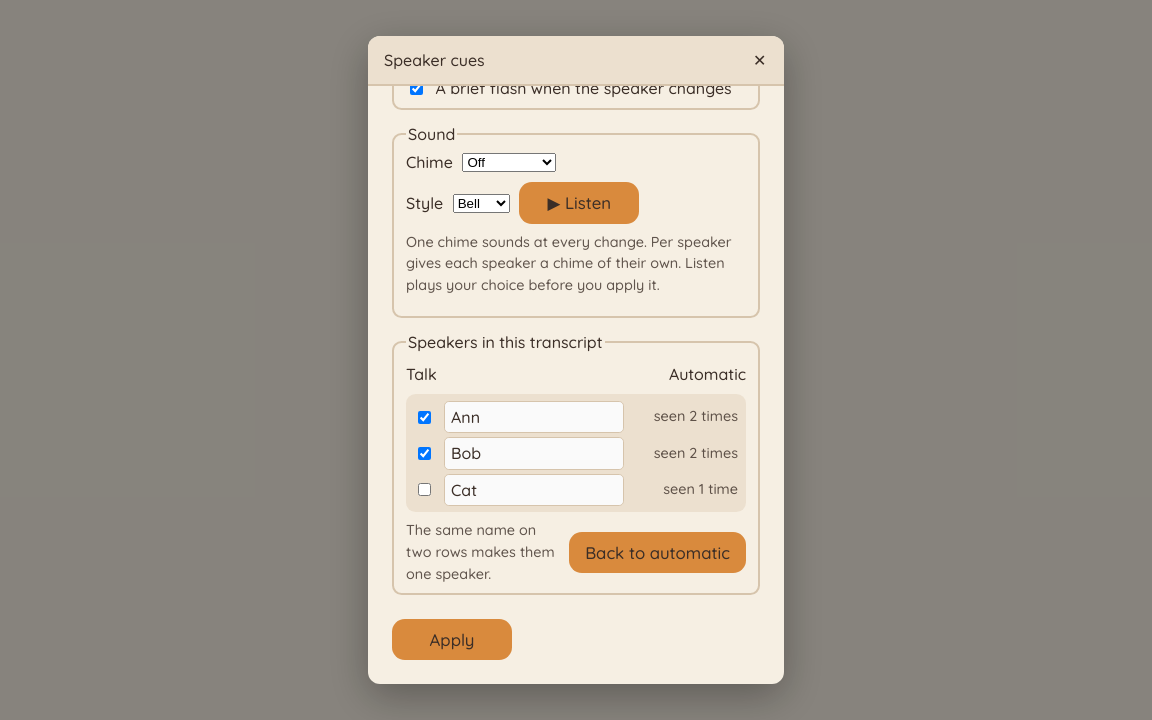
it: the speaker list › ticking_a_row_makes_the_list_custom_and_unticking_makes_it_automatic
(page scrolled)
What coordinates should you click on to do the following:
click the checkbox named "Show Cat as a speaker"
I would click on:
 (424, 490)
Its box is x1=418 y1=483 x2=431 y2=496.
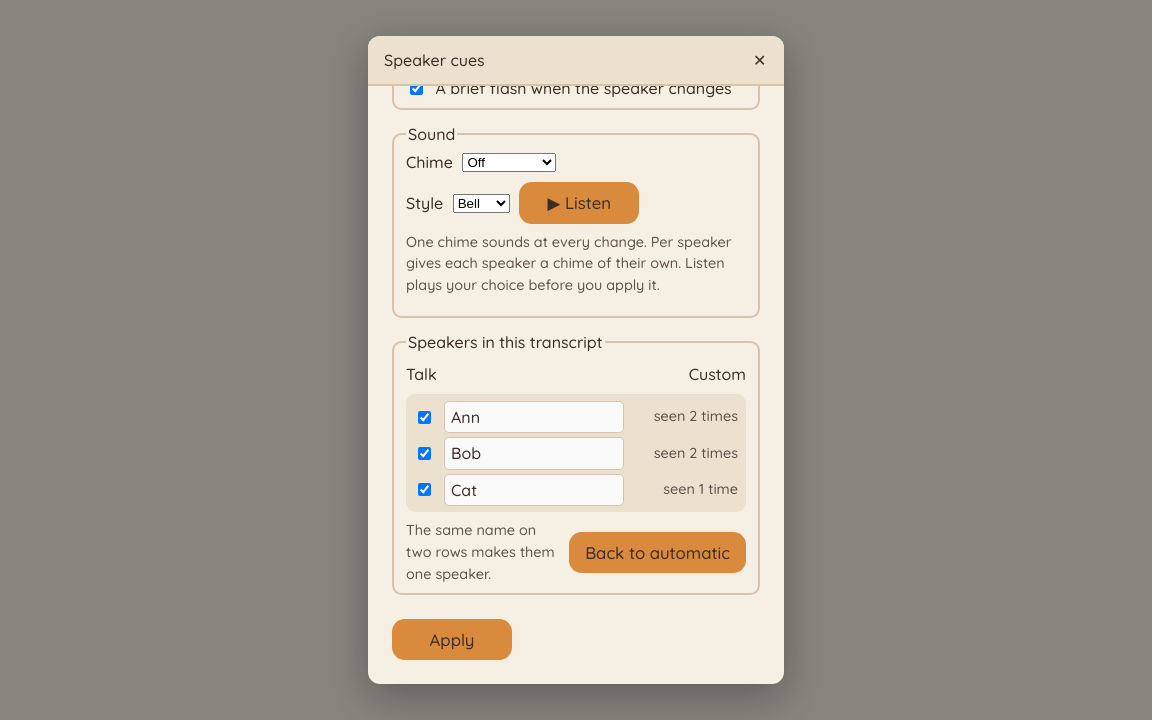
Now the text with test id "list-mode" reads "Custom", box x1=689 y1=364 x2=746 y2=384
What coordinates should you click on to do the following:
click the checkbox named "Show Cat as a speaker"
I would click on:
 (424, 490)
Its box is x1=418 y1=483 x2=431 y2=496.
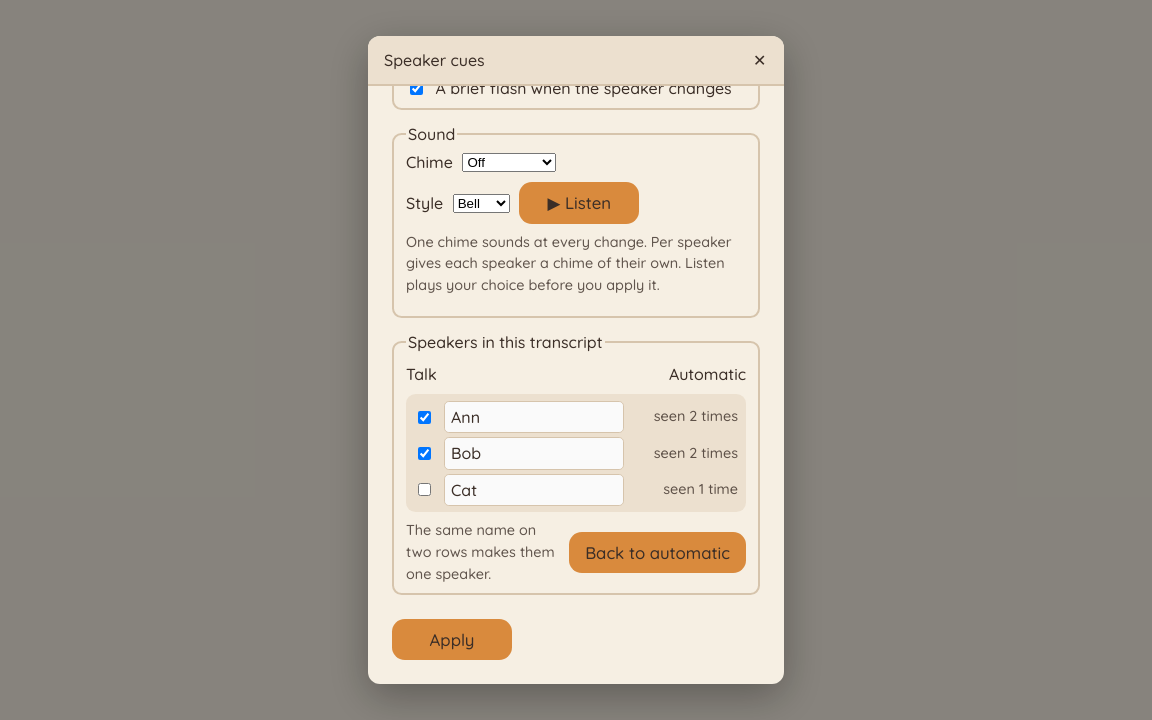
Now the text with test id "list-mode" reads "Automatic", box x1=669 y1=364 x2=746 y2=384
